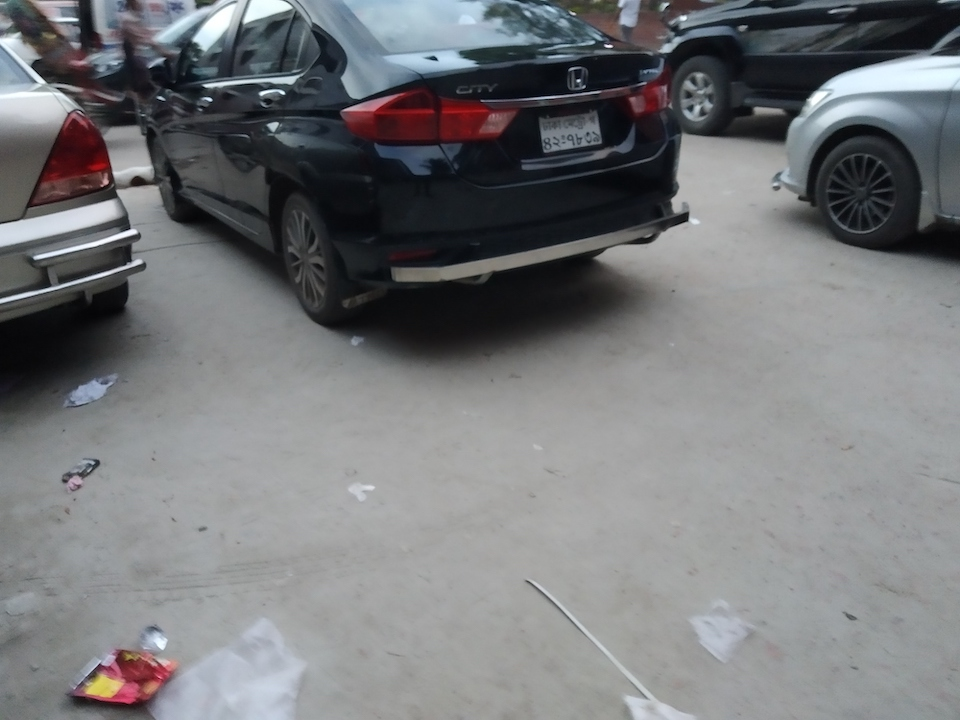registration_plate: (538, 110, 602, 153)
